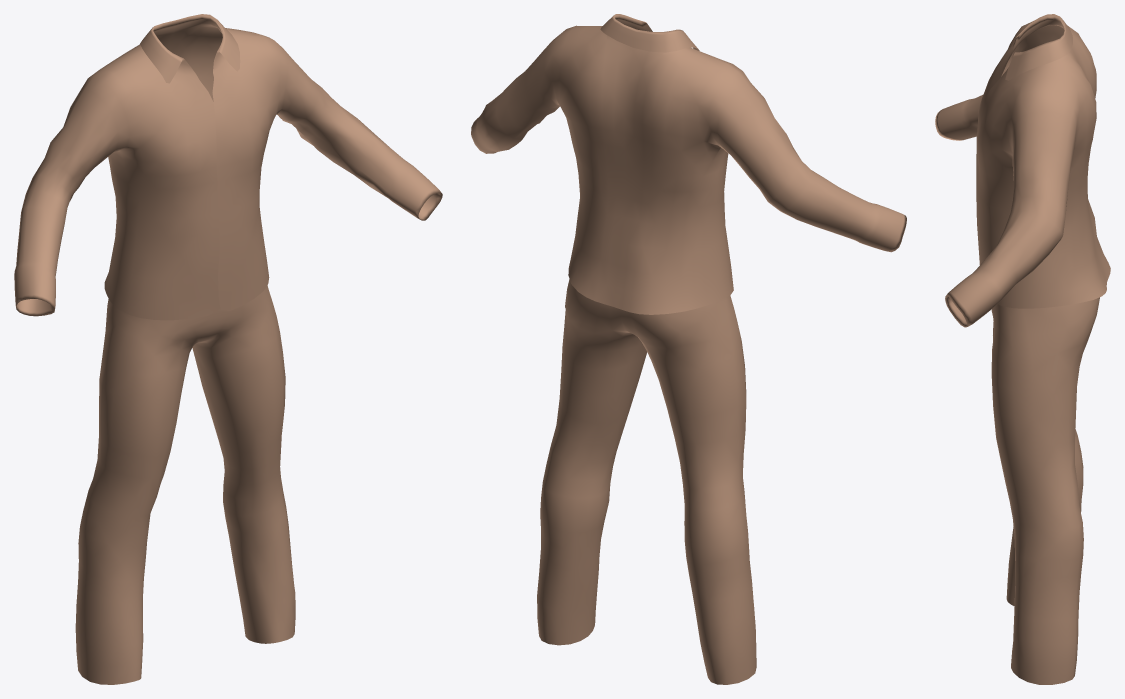
Rendered from casualsuit03.glb.
3 views of the same model, side by side, from view 1: azimuth 30°, elevation 25°; view 2: azimuth 150°, elevation 25°; view 3: azimuth 270°, elevation 25° (orthographic). The views are drawn at different scales.
Visible parts, largest first — view 1: casualsuit03; view 2: casualsuit03; view 3: casualsuit03.
Boxes of the visible parts, <box> form: casualsuit03: <box>14,14,442,684</box>; casualsuit03: <box>471,14,906,684</box>; casualsuit03: <box>935,14,1110,684</box>.
Bounding box in the file's own units: 1 × 1.42 × 0.3696.
